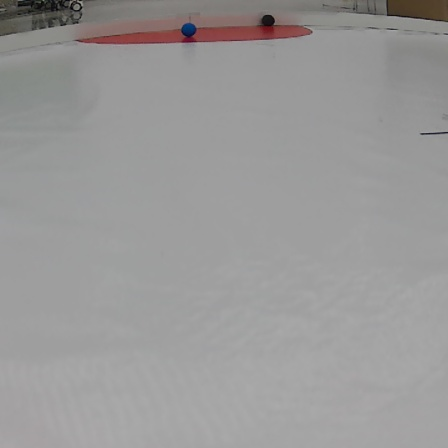black: (260, 14, 275, 27)
blue: (179, 22, 197, 38)
red_base: (79, 25, 313, 45)
